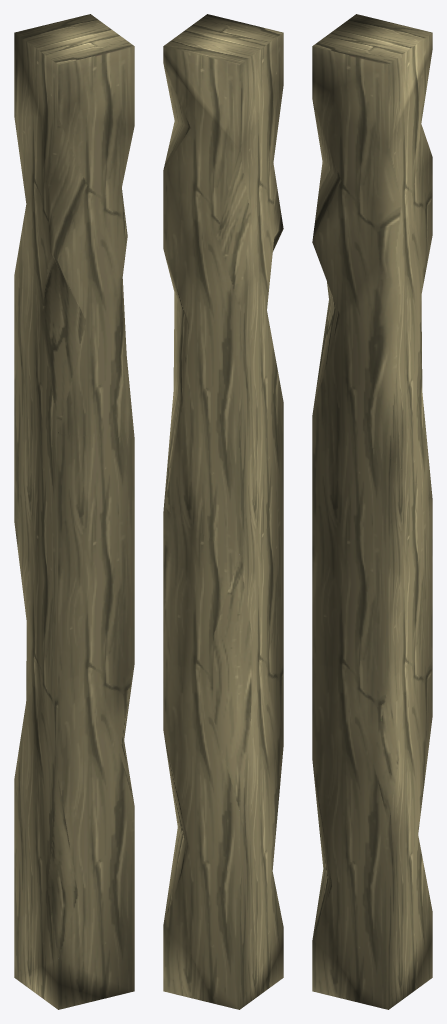
The model's file is Piller3.fbx.
3 renders of one model, left to right at view 1: azimuth 30°, elevation 25°; view 2: azimuth 150°, elevation 25°; view 3: azimuth 330°, elevation 25°, orthographic.
Visible parts, largest first — view 1: Cube_001; view 2: Cube_001; view 3: Cube_001.
Part boxes in pixels (x1,y1,x2,y2): Cube_001: [14, 14, 134, 1009]; Cube_001: [163, 14, 283, 1009]; Cube_001: [312, 14, 432, 1009].
Size of the model in its own units: 0.4141 by 4.9 by 0.4141.
